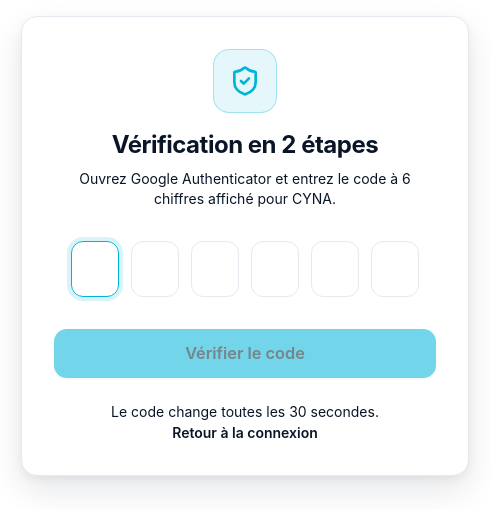
it: avec pending_token › le bouton est activé une fois les 6 chiffres saisis
Type "1" into the 1st field at (95, 269), box [71, 241, 119, 297]
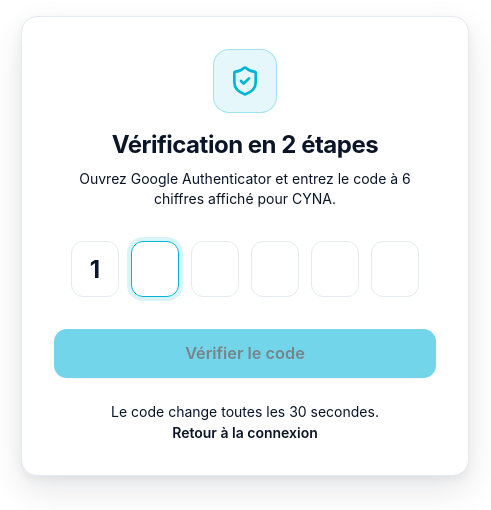
Type "2" into the 2nd field at (155, 269), box [131, 241, 179, 297]
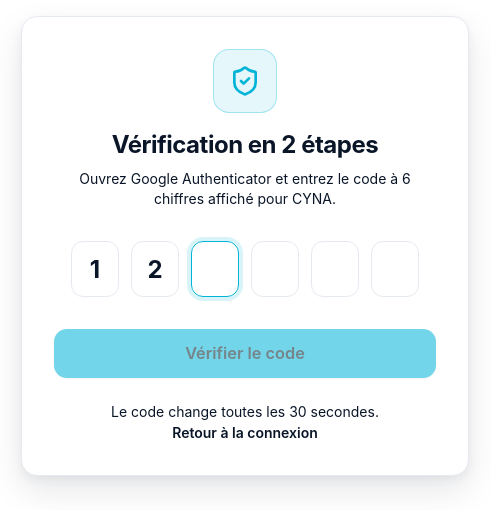
Type "3" into the 3rd field at (215, 269), box [191, 241, 239, 297]
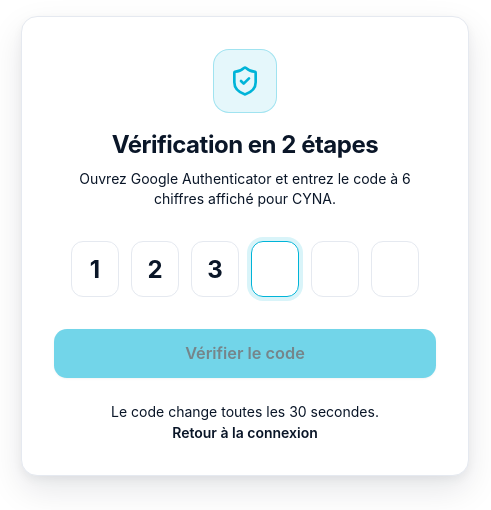
Type "4" into the 4th field at (275, 269), box [251, 241, 299, 297]
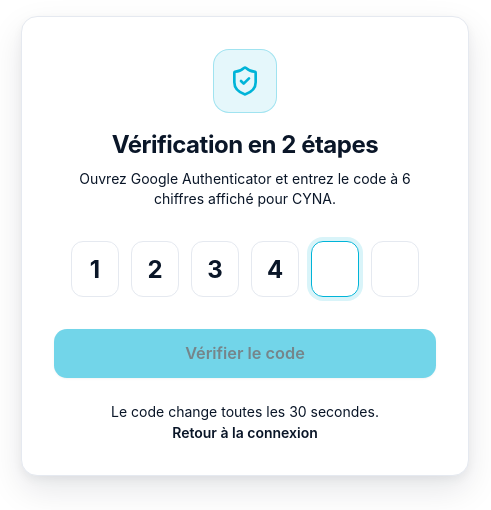
Type "5" into the 5th field at (335, 269), box [311, 241, 359, 297]
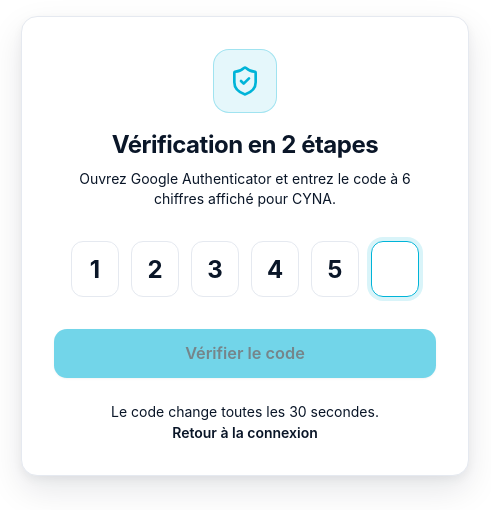
Type "6" into the 6th field at (395, 269), box [371, 241, 419, 297]
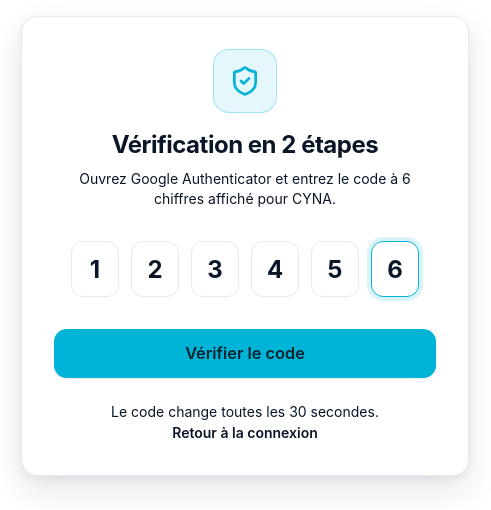
expect the button "Vérifier le code" is enabled: met, box [54, 329, 436, 378]
